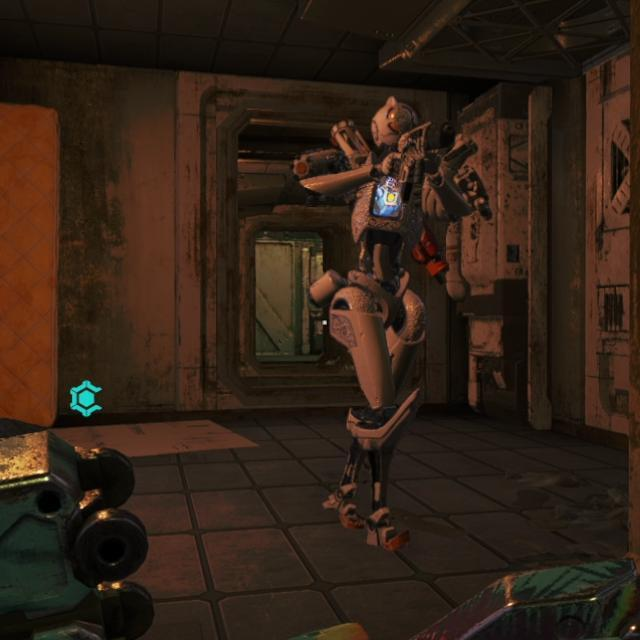avatar: (291, 96, 475, 555)
